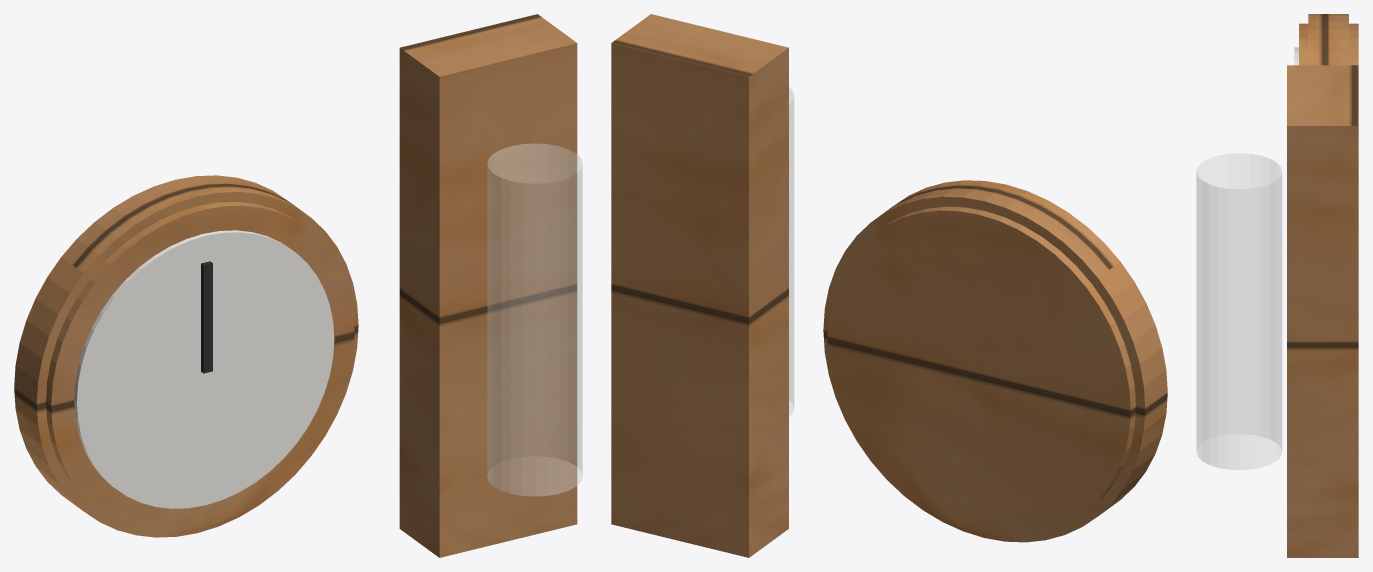
The model's file is climate-station-1.0.0.glb.
The picture shows the model from 3 angles, left to right: view 1: azimuth 30°, elevation 25°; view 2: azimuth 150°, elevation 25°; view 3: azimuth 270°, elevation 25°; orthographic projection. The views are drawn at different scales.
Visible parts, largest first — view 1: glass_bracket, dial, casing, hourglass, hand; view 2: casing, glass_bracket, hourglass; view 3: glass_bracket, hourglass, casing.
Boxes of the visible parts, bbox=[...] form: glass_bracket: bbox=[399, 14, 577, 557]; dial: bbox=[74, 230, 334, 508]; casing: bbox=[14, 175, 358, 537]; hourglass: bbox=[487, 143, 582, 496]; hand: bbox=[201, 261, 212, 373]; casing: bbox=[823, 180, 1167, 542]; glass_bracket: bbox=[611, 14, 788, 557]; hourglass: bbox=[789, 87, 793, 416]; glass_bracket: bbox=[1287, 65, 1358, 557]; hourglass: bbox=[1196, 153, 1281, 469]; casing: bbox=[1299, 14, 1358, 65].
Bounding box in the file's own units: 0.23 × 0.2 × 0.068.
4 materials, 1 textured.
